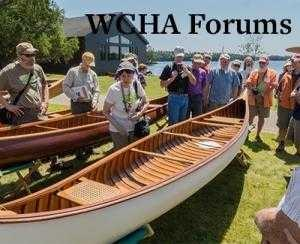kayak: (1, 99, 250, 241), (0, 111, 110, 167)
